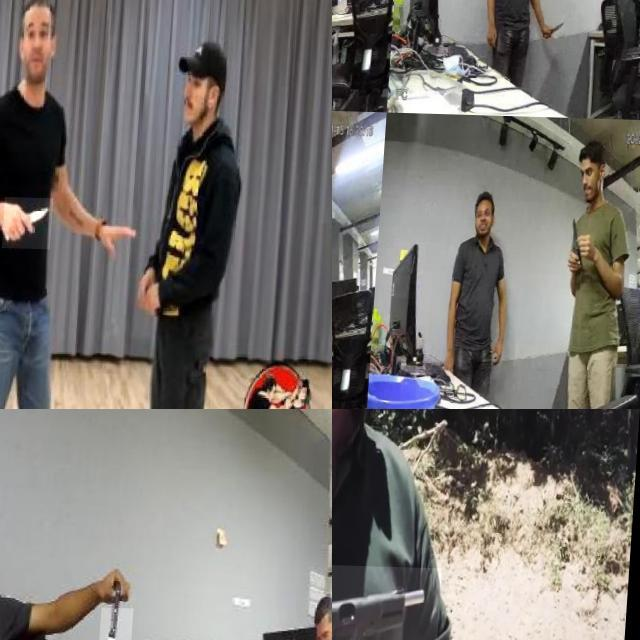-: (7, 195, 58, 248), (101, 605, 138, 640), (573, 213, 588, 256), (548, 16, 568, 33), (332, 337, 344, 364), (332, 25, 338, 46)
gun-knife-thesis - v11 Yolov5 augmented: (332, 562, 448, 640)
